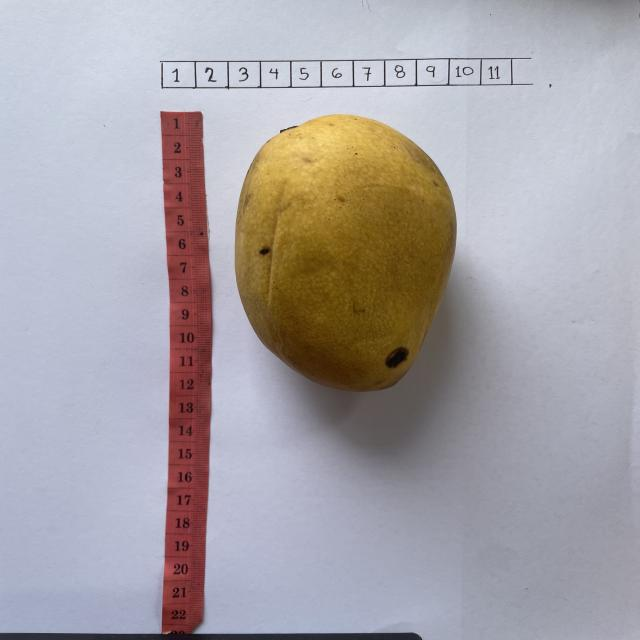Ripe: (233, 115, 458, 395)
